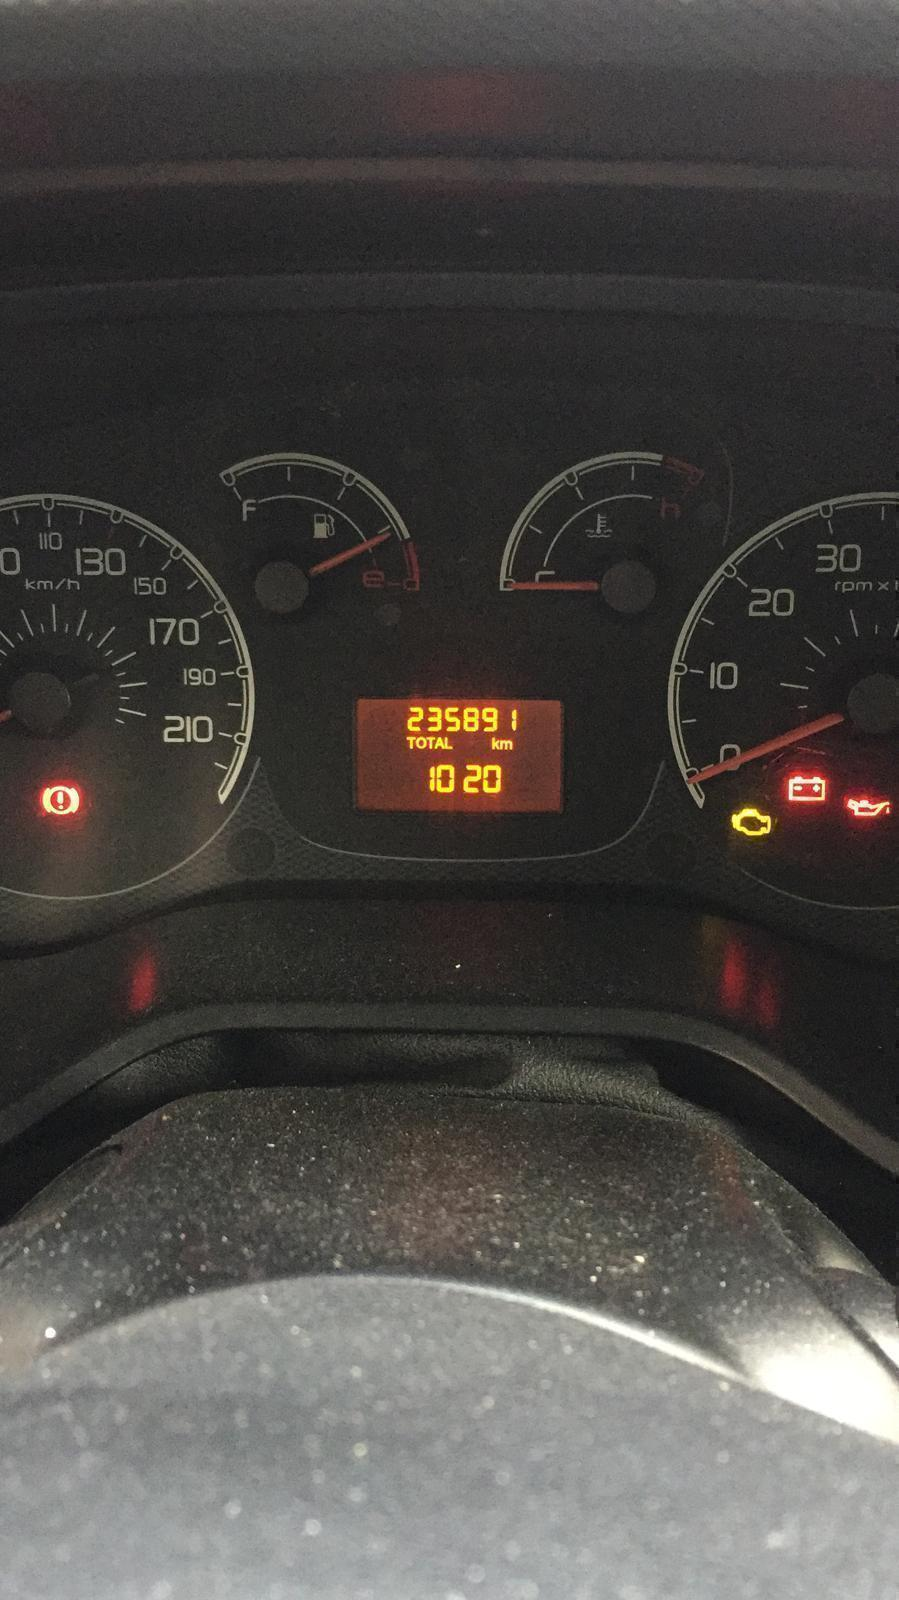0: (482, 763, 502, 795), (436, 764, 456, 795)
1: (428, 764, 435, 792), (510, 707, 518, 731)
2: (463, 762, 481, 793), (407, 705, 424, 731)
3: (428, 705, 442, 732)
5: (444, 705, 460, 732)
8: (463, 705, 479, 732)
9: (481, 705, 498, 733)
X: (499, 738, 514, 751), (404, 735, 415, 749), (415, 736, 426, 749), (434, 736, 444, 751), (444, 735, 454, 749), (426, 735, 435, 749), (490, 735, 499, 749)
odometer: (349, 690, 569, 816)
